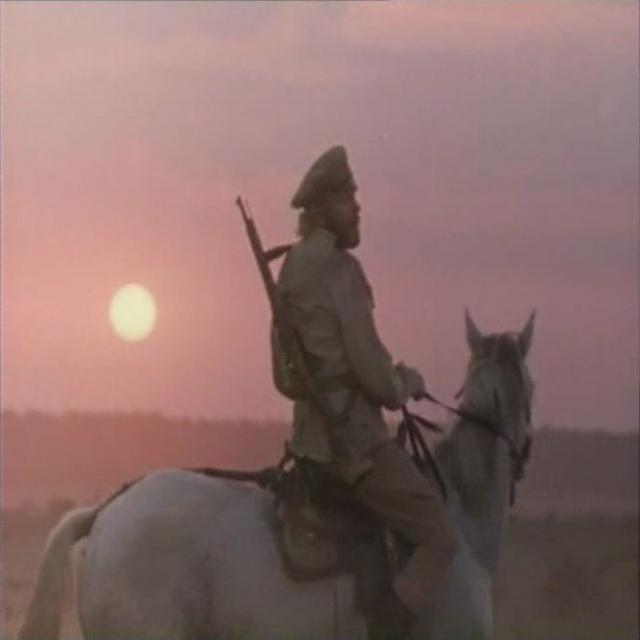gun-knife-thesis - v11 Yolov5 augmented: (223, 188, 377, 498)
